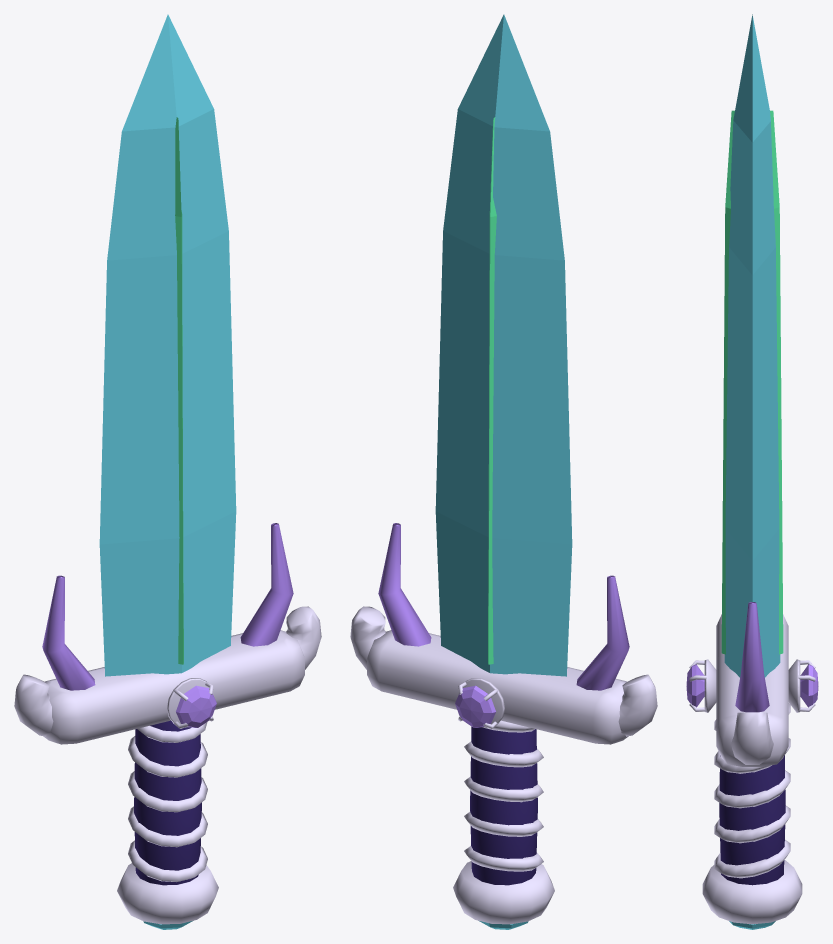
The model's file is Tool_T13.fbx.
The picture shows the model from 3 angles, left to right: view 1: azimuth 30°, elevation 25°; view 2: azimuth 150°, elevation 25°; view 3: azimuth 270°, elevation 25°; orthographic projection.
Visible parts, largest first — view 1: ToolT13Blade, ToolT13Head, ToolT13Handle, ToolT13HeadGlow, ToolT13BladeGlow; view 2: ToolT13Blade, ToolT13Head, ToolT13Handle, ToolT13HeadGlow, ToolT13BladeGlow; view 3: ToolT13Blade, ToolT13Handle, ToolT13Head, ToolT13BladeGlow, ToolT13HeadGlow.
Boxes of the visible parts, x1=… form: ToolT13Blade: x1=99, y1=14, x2=236, y2=676; ToolT13Head: x1=14, y1=606, x2=321, y2=744; ToolT13Handle: x1=117, y1=720, x2=218, y2=924; ToolT13HeadGlow: x1=42, y1=523, x2=293, y2=727; ToolT13BladeGlow: x1=175, y1=117, x2=183, y2=664; ToolT13Blade: x1=435, y1=14, x2=572, y2=676; ToolT13Head: x1=350, y1=606, x2=657, y2=744; ToolT13Handle: x1=453, y1=720, x2=554, y2=924; ToolT13HeadGlow: x1=378, y1=523, x2=629, y2=727; ToolT13BladeGlow: x1=488, y1=117, x2=496, y2=664; ToolT13Blade: x1=724, y1=14, x2=780, y2=677; ToolT13Handle: x1=702, y1=703, x2=802, y2=924; ToolT13Head: x1=689, y1=614, x2=815, y2=766; ToolT13BladeGlow: x1=721, y1=110, x2=783, y2=654; ToolT13HeadGlow: x1=686, y1=602, x2=818, y2=712.
Bounding box in the file's own units: 163 × 471 × 61.94.
